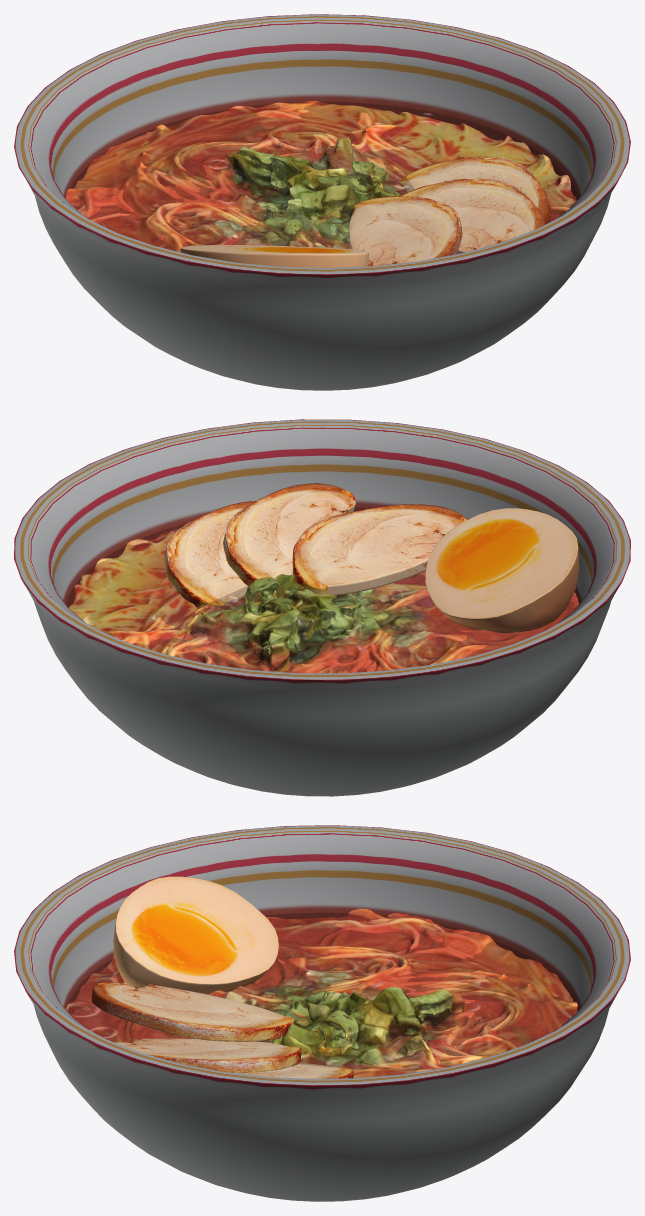
File: ramen.glb
3 renders of one model, top to bottom at view 1: azimuth 30°, elevation 25°; view 2: azimuth 150°, elevation 25°; view 3: azimuth 270°, elevation 25°, orthographic.
Parts seen in each view (by area): view 1: bowl_and_mee1_export_bowl_6, bowl_and_mee1_export_mee_10, bowl_and_mee1_export_soup_1_12, bowl_and_mee1_export_meat2_pPlane1__2__9, bowl_and_mee1_export_meat2_pPlane1_8, bowl_and_mee1_export_pPlane1__1__meat2_11, bowl_and_mee1_export_egg1_7; view 2: bowl_and_mee1_export_bowl_6, bowl_and_mee1_export_mee_10, bowl_and_mee1_export_soup_1_12, bowl_and_mee1_export_egg1_7, bowl_and_mee1_export_meat2_pPlane1__2__9, bowl_and_mee1_export_meat2_pPlane1_8, bowl_and_mee1_export_pPlane1__1__meat2_11; view 3: bowl_and_mee1_export_bowl_6, bowl_and_mee1_export_mee_10, bowl_and_mee1_export_soup_1_12, bowl_and_mee1_export_egg1_7, bowl_and_mee1_export_meat2_pPlane1__2__9, bowl_and_mee1_export_meat2_pPlane1_8, bowl_and_mee1_export_pPlane1__1__meat2_11.
Boxes of the visible parts, <box> form: bowl_and_mee1_export_bowl_6: <box>14,14,630,390</box>; bowl_and_mee1_export_mee_10: <box>66,101,576,252</box>; bowl_and_mee1_export_soup_1_12: <box>71,102,577,250</box>; bowl_and_mee1_export_meat2_pPlane1__2__9: <box>348,196,462,266</box>; bowl_and_mee1_export_meat2_pPlane1_8: <box>400,178,545,254</box>; bowl_and_mee1_export_pPlane1__1__meat2_11: <box>399,157,551,223</box>; bowl_and_mee1_export_egg1_7: <box>180,245,368,267</box>; bowl_and_mee1_export_bowl_6: <box>14,419,630,796</box>; bowl_and_mee1_export_mee_10: <box>69,513,578,673</box>; bowl_and_mee1_export_soup_1_12: <box>64,508,575,672</box>; bowl_and_mee1_export_egg1_7: <box>425,508,579,633</box>; bowl_and_mee1_export_meat2_pPlane1__2__9: <box>292,504,466,595</box>; bowl_and_mee1_export_meat2_pPlane1_8: <box>223,483,355,586</box>; bowl_and_mee1_export_pPlane1__1__meat2_11: <box>164,501,255,608</box>; bowl_and_mee1_export_bowl_6: <box>14,825,630,1201</box>; bowl_and_mee1_export_mee_10: <box>66,908,577,1078</box>; bowl_and_mee1_export_soup_1_12: <box>69,913,578,1077</box>; bowl_and_mee1_export_egg1_7: <box>113,876,278,994</box>; bowl_and_mee1_export_meat2_pPlane1__2__9: <box>91,982,293,1041</box>; bowl_and_mee1_export_meat2_pPlane1_8: <box>113,1038,301,1072</box>; bowl_and_mee1_export_pPlane1__1__meat2_11: <box>235,1063,353,1078</box>.
Bounding box in the file's own units: 0.4019 × 0.1371 × 0.4019.
5 materials, 5 textured.
